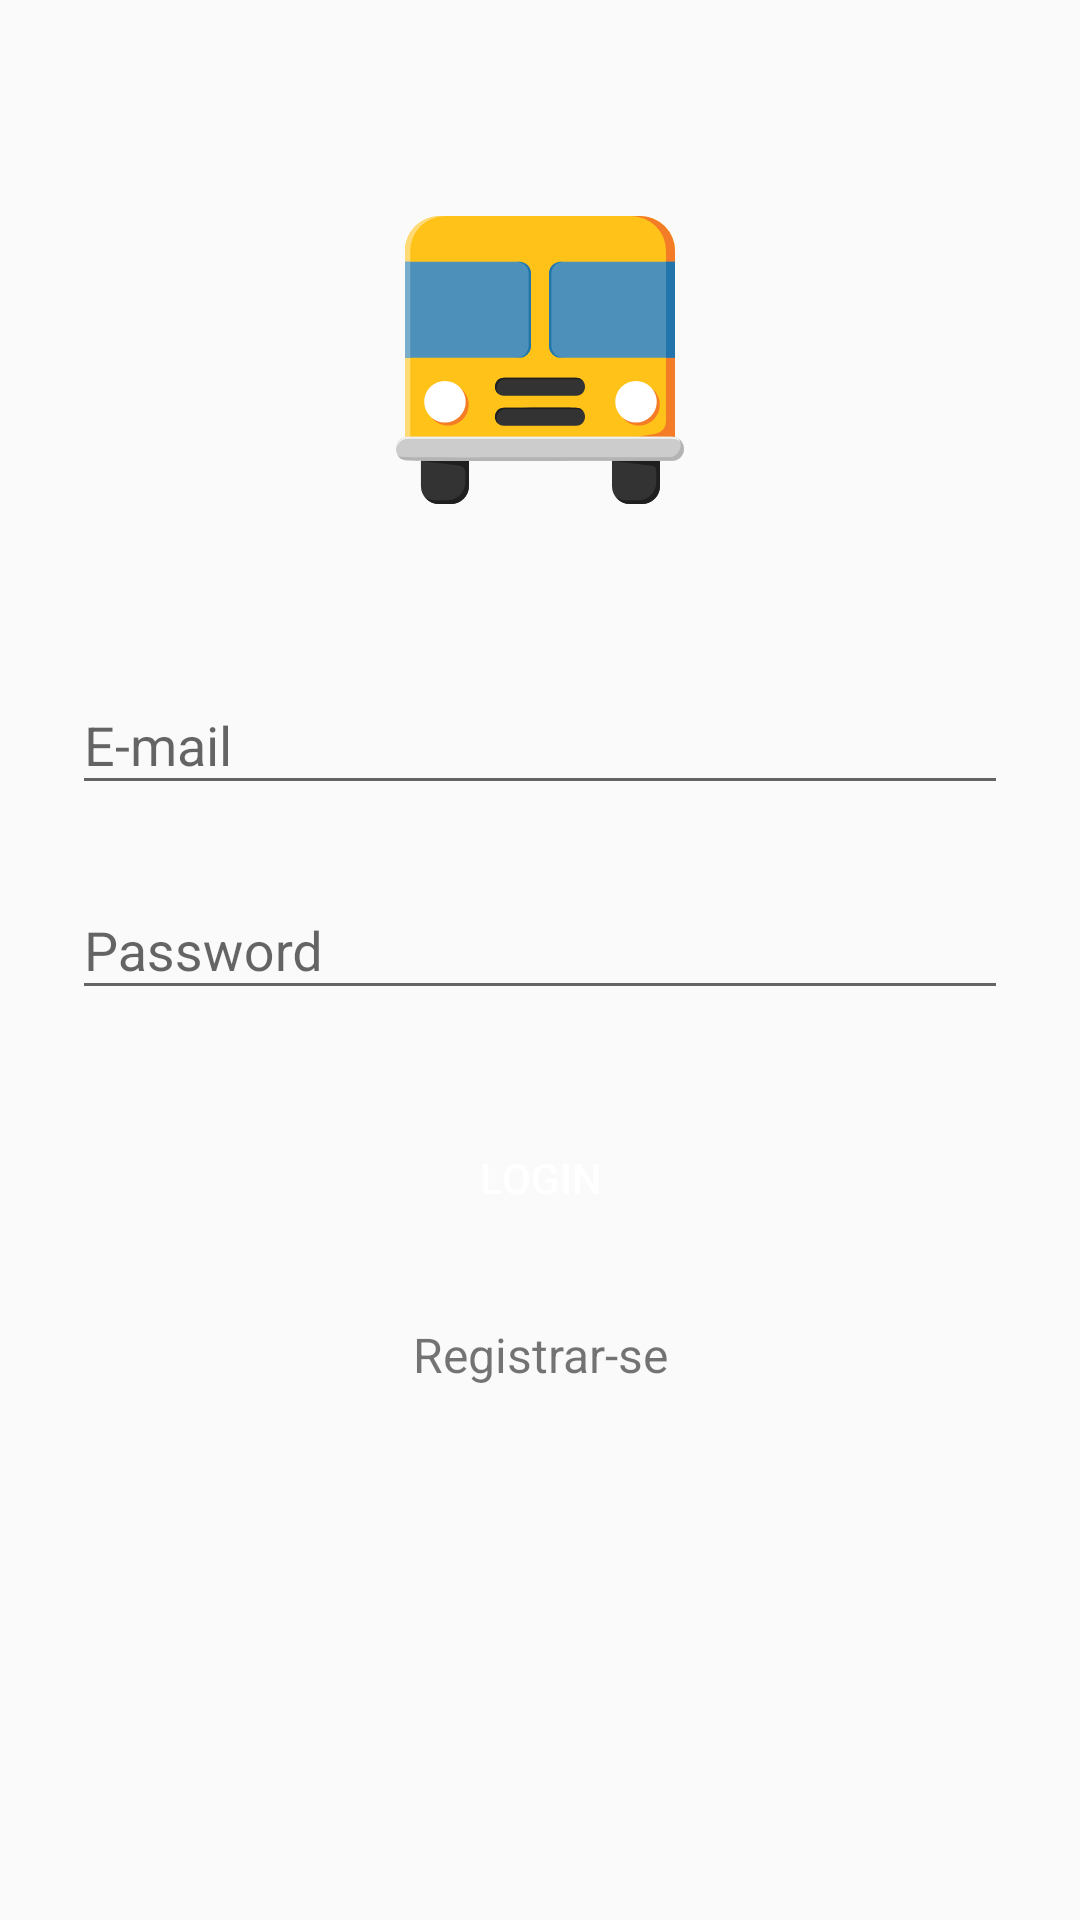

Named icons in this screenshot (1080*1920) and their centers, (x=x, y=y):
schoolbus: (x=540, y=360)
